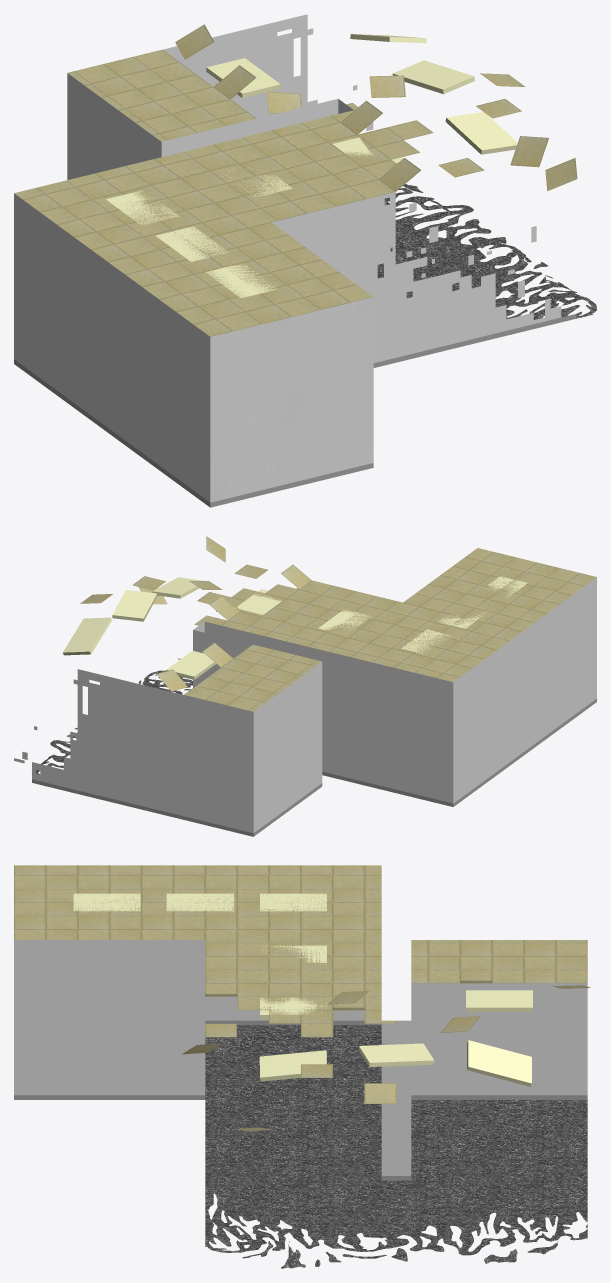
File: Room2.gltf
3 views of the same model, one above another, from view 1: azimuth 30°, elevation 25°; view 2: azimuth 150°, elevation 25°; view 3: azimuth 270°, elevation 25° (orthographic). The views are drawn at different scales.
Visible parts, largest first — view 1: SketchUp.002, SketchUp, SketchUp.034, SketchUp.033, SketchUp.014, SketchUp.018, SketchUp.001, group_5, group_6, group_1, group_0, group_8 (+9 smaller); view 2: SketchUp.002, SketchUp, SketchUp.014, SketchUp.001, group_7, group_6, group_8, SketchUp.018, group_5, group_4, group_3, group_2 (+1 smaller); view 3: SketchUp.018, SketchUp, SketchUp.033, SketchUp.002, SketchUp.014, SketchUp.001, group_7, group_6, group_8, group_5, group_1, group_0 (+4 smaller).
Boxes of the visible parts, <box> form: SketchUp.002: <box>14,14,353,502</box>; SketchUp: <box>14,103,433,336</box>; SketchUp.034: <box>210,297,373,502</box>; SketchUp.033: <box>272,192,561,362</box>; SketchUp.014: <box>68,49,256,141</box>; SketchUp.018: <box>377,188,596,319</box>; SketchUp.001: <box>14,314,575,507</box>; group_5: <box>445,112,517,154</box>; group_6: <box>392,60,474,94</box>; group_1: <box>155,226,228,261</box>; group_0: <box>206,263,276,298</box>; group_8: <box>206,58,280,97</box>; SketchUp.002: <box>32,577,596,833</box>; SketchUp: <box>194,548,596,681</box>; SketchUp.014: <box>184,644,321,711</box>; SketchUp.001: <box>32,698,596,836</box>; group_7: <box>62,617,111,655</box>; group_6: <box>112,590,157,621</box>; group_8: <box>166,650,216,679</box>; SketchUp.018: <box>47,670,192,768</box>; group_5: <box>152,577,204,598</box>; group_4: <box>236,589,282,614</box>; group_3: <box>318,609,369,633</box>; group_2: <box>401,629,452,653</box>; SketchUp.018: <box>205,1025,587,1255</box>; SketchUp: <box>14,865,396,1037</box>; SketchUp.033: <box>14,940,205,1095</box>; SketchUp.002: <box>205,983,587,1175</box>; SketchUp.014: <box>411,940,587,983</box>; SketchUp.001: <box>14,1020,587,1180</box>; group_7: <box>467,1040,531,1086</box>; group_6: <box>358,1043,434,1066</box>; group_8: <box>466,990,532,1011</box>; group_5: <box>259,1050,326,1081</box>; group_1: <box>166,893,233,911</box>; group_0: <box>73,893,140,911</box>.
Size of the model in its own units: 11.37 by 4.7 by 12.08.
10 materials, 3 textured.
